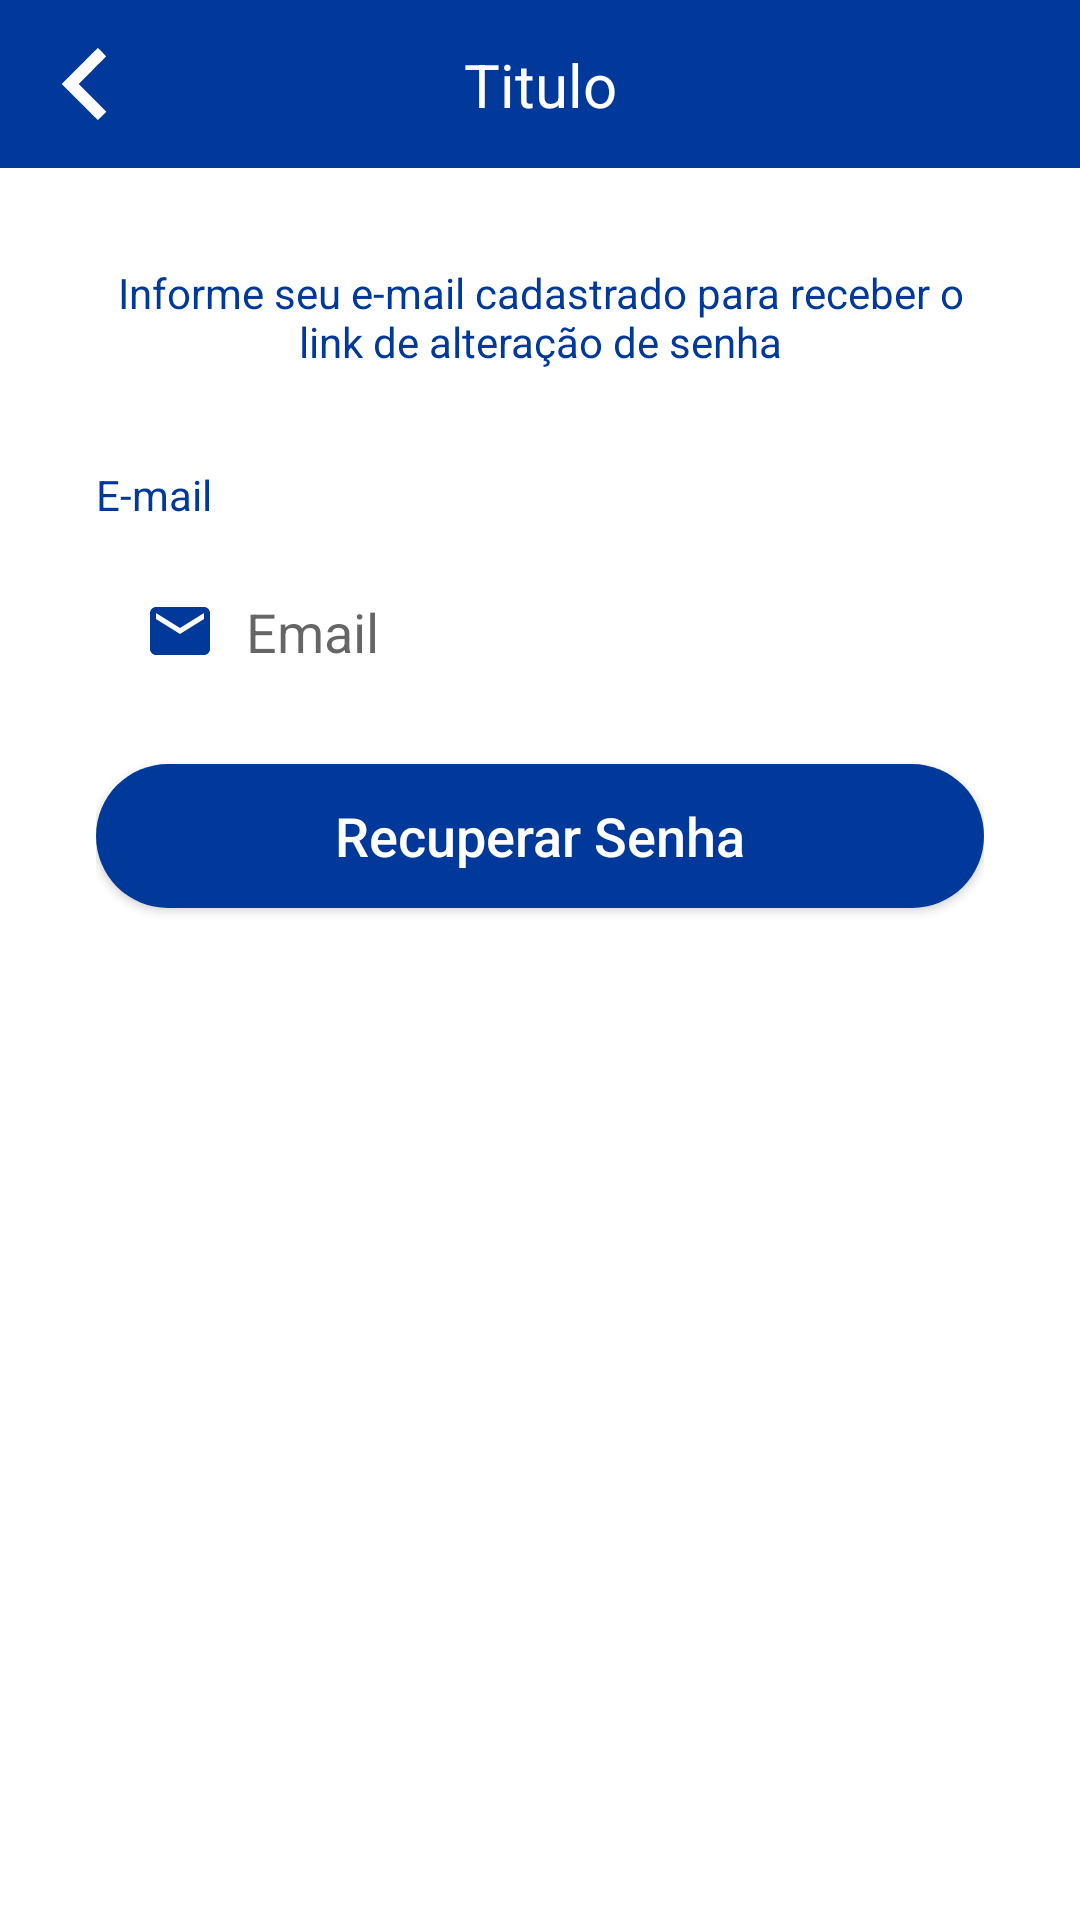

Icons on this 1080px x 1920px Android screen, each with its box as [x1=x1, y1=y1, x2=x2, y2=y2]:
votlar: [x1=62, y1=48, x2=106, y2=120]
